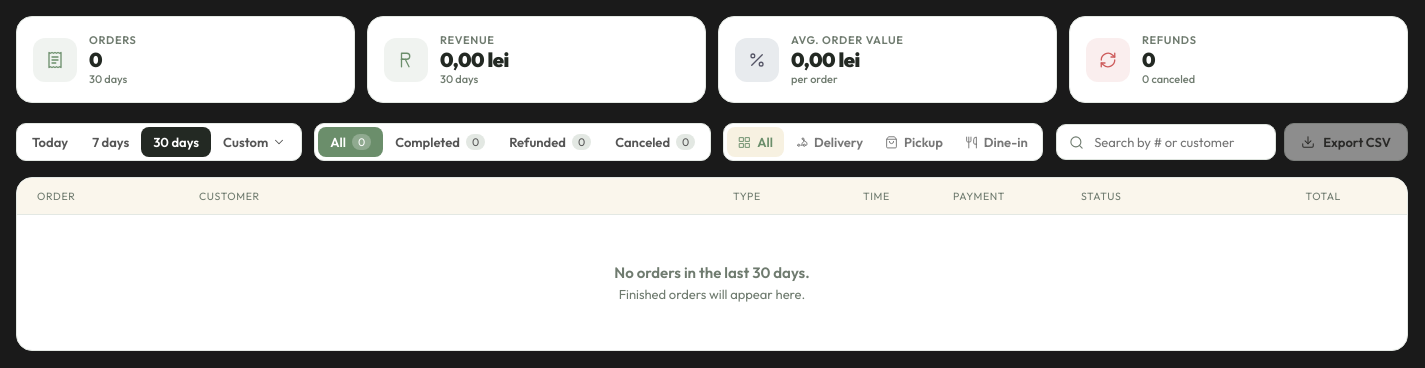
D-12/D-13 — period-dependent copy (tile sub-labels + empty state) › empty state, settled 7 days (en): "No orders in the last 7 days."
Click the button with test id "history-period-pill" showing "7 days". click: (111, 142)
box: [80,127,141,157]
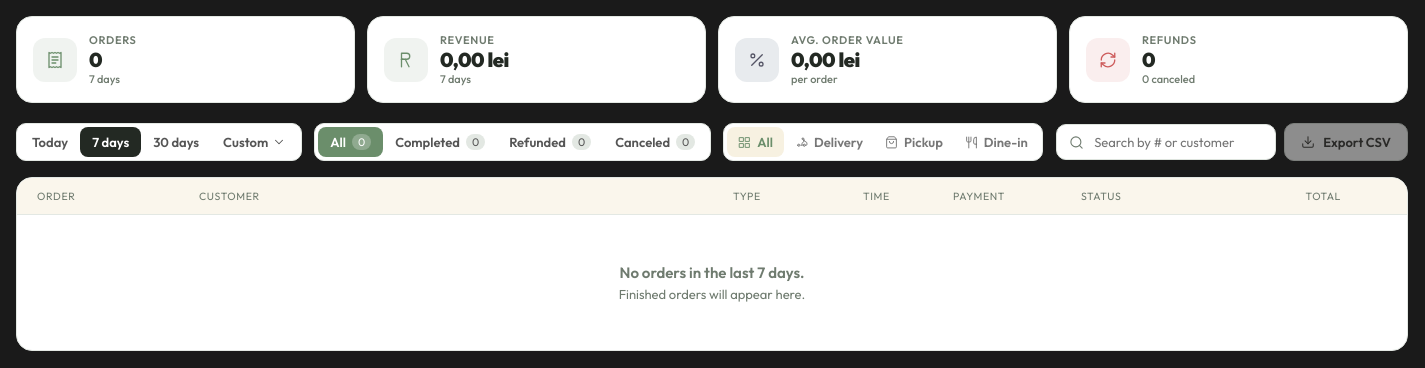
Expected: the text "No orders in the last 7 days." is shown, [620,263,804,282]
